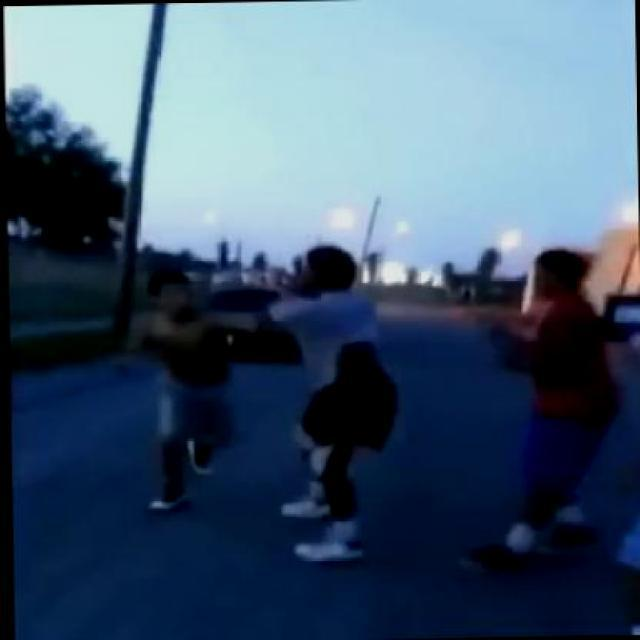fight: (130, 242, 396, 566)
non-fight: (447, 245, 621, 572)
